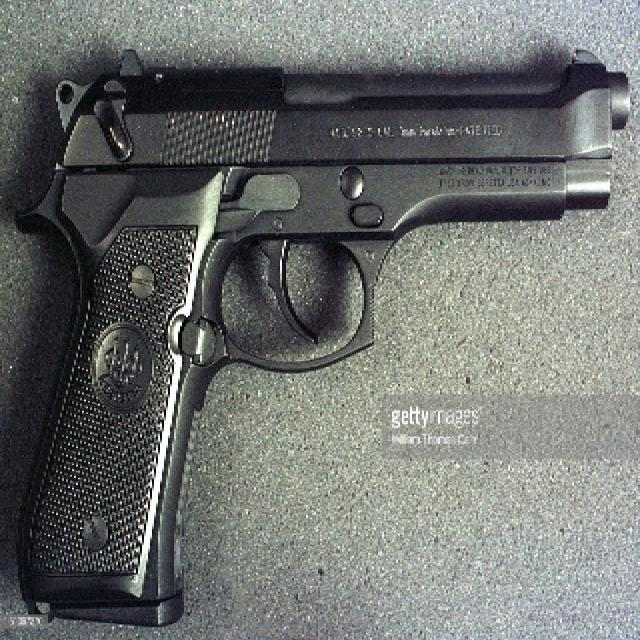handgun: (15, 37, 627, 626)
